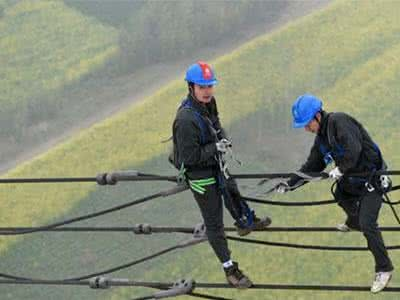blue: (182, 59, 219, 104), (289, 94, 325, 134)
